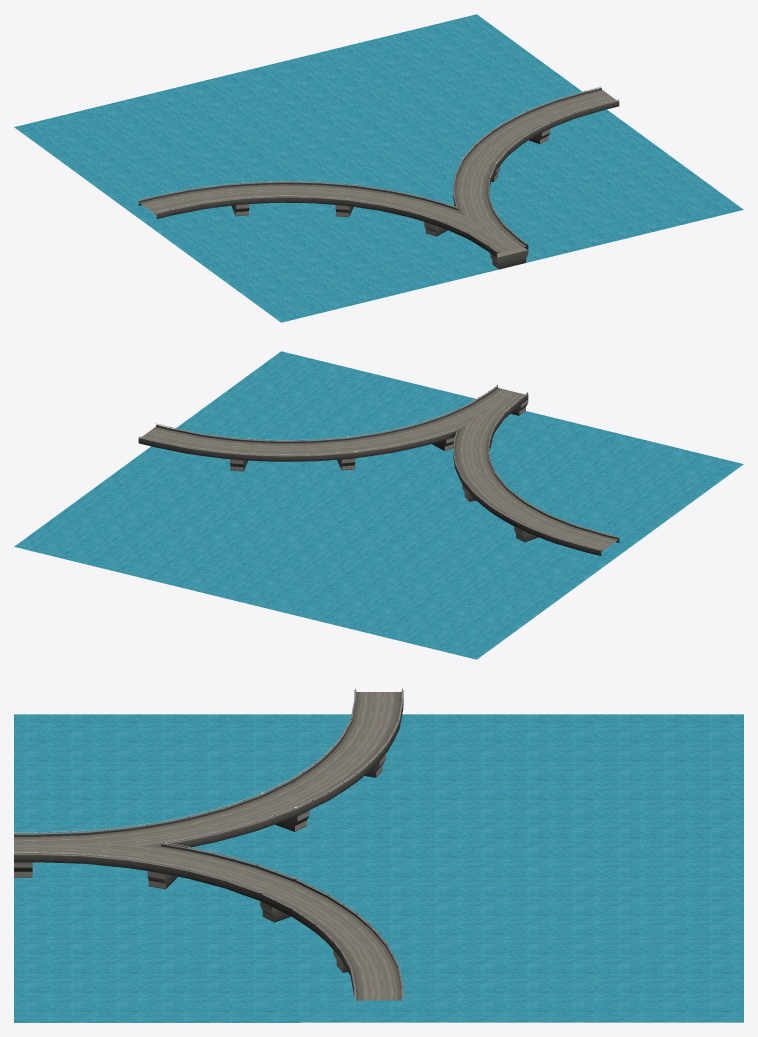
Rendered from Track_Both_Low.FBX.
3 views of the same model, one above another, from view 1: azimuth 30°, elevation 25°; view 2: azimuth 150°, elevation 25°; view 3: azimuth 270°, elevation 25° (orthographic). The views are drawn at different scales.
Visible parts, largest first — view 1: ground009, Road, Pillar; view 2: ground009, Road; view 3: ground009, Road.
Part boxes in pixels (x1,y1,x2,y2): ground009: (14,14,743,322); Road: (138,86,619,257); Pillar: (490,247,528,269); ground009: (14,351,743,659); Road: (138,385,619,555); ground009: (14,714,743,1022); Road: (14,688,403,1000).
Size of the model in its own units: 6300 by 251 by 6300.
